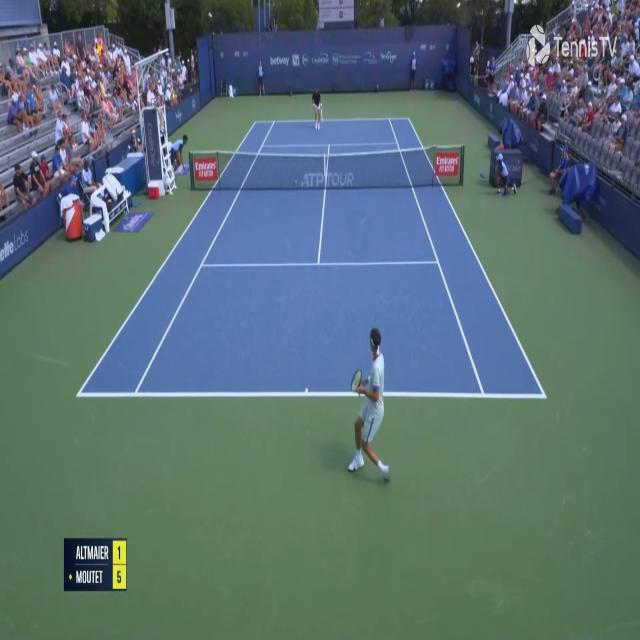tennis-player: (344, 323, 393, 488), (308, 85, 324, 132)
